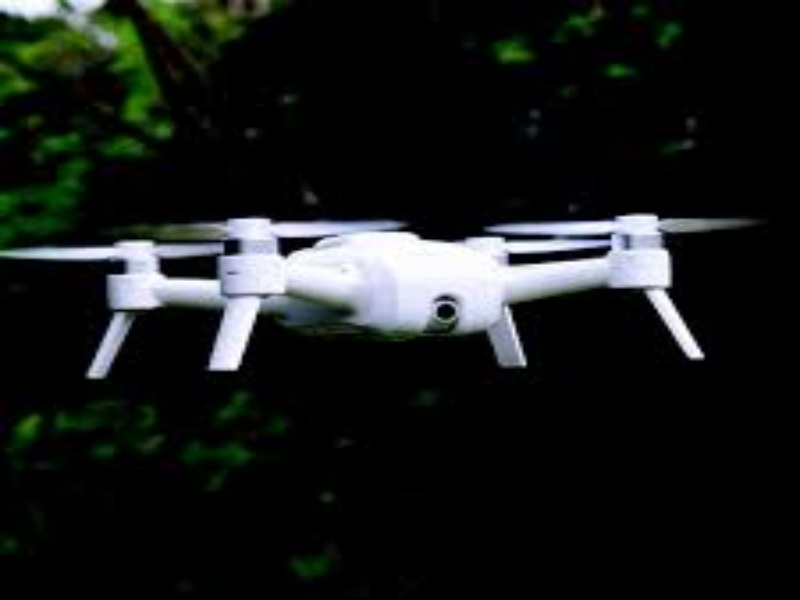drone: (64, 193, 724, 393)
